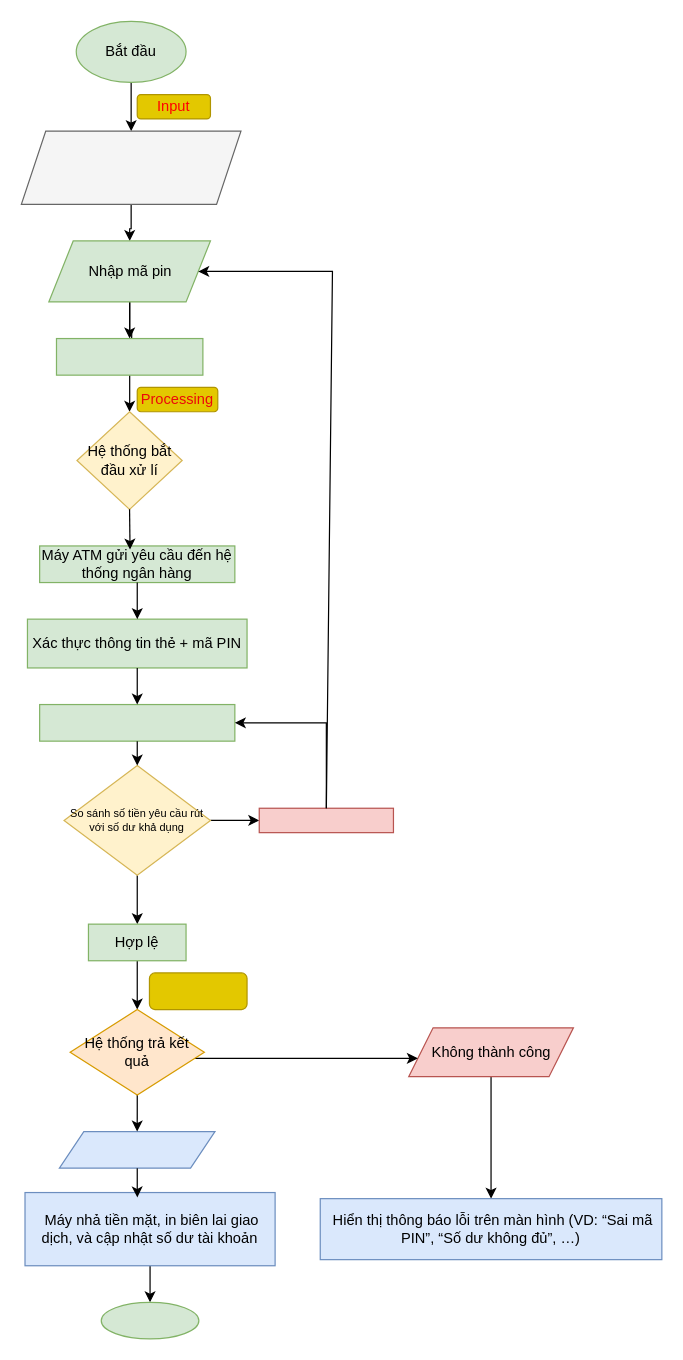
Image size: 683x1360. Some labels were removed from this diagram. The centre of each missing label's shape, as x and y in pixels:
"Khách hàng đưa thẻ" belongs at point 130,167.
"Không hợp lệ" belongs at point 325,820.
"Kiểm tra số dư tài khoản" belongs at point 136,722.
"Kết thúc" belongs at point 149,1320.
"Nhập số tiền cần rút" belongs at point 129,356.
"Output" belongs at point 197,991.
"Thành công" belongs at point 136,1149.
